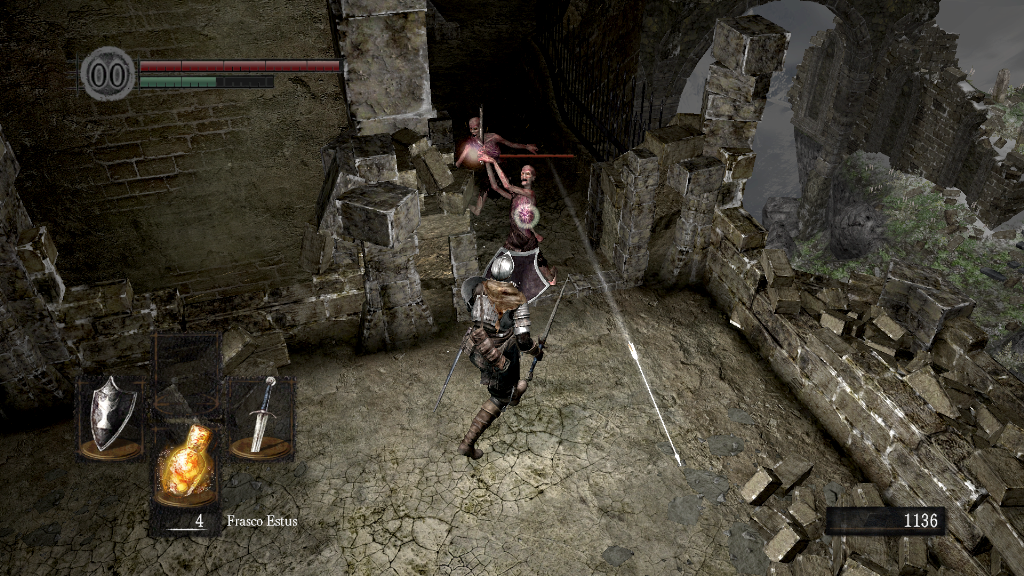health: (138, 58, 343, 71)
hollow: (478, 146, 561, 307), (454, 115, 540, 187)
humanity: (80, 45, 136, 102)
player: (439, 246, 567, 461)
souls: (825, 506, 945, 536)
stamina: (138, 74, 274, 88)
